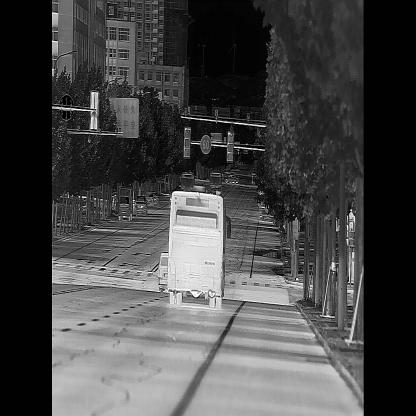bus: (166, 185, 233, 315), (179, 170, 195, 199), (208, 171, 222, 200)
car: (156, 248, 172, 292), (221, 170, 240, 186), (135, 194, 148, 216), (127, 198, 138, 218), (150, 189, 160, 210), (144, 190, 154, 209), (235, 160, 240, 166)
truck: (258, 178, 278, 222), (117, 184, 133, 224), (250, 170, 259, 187)
